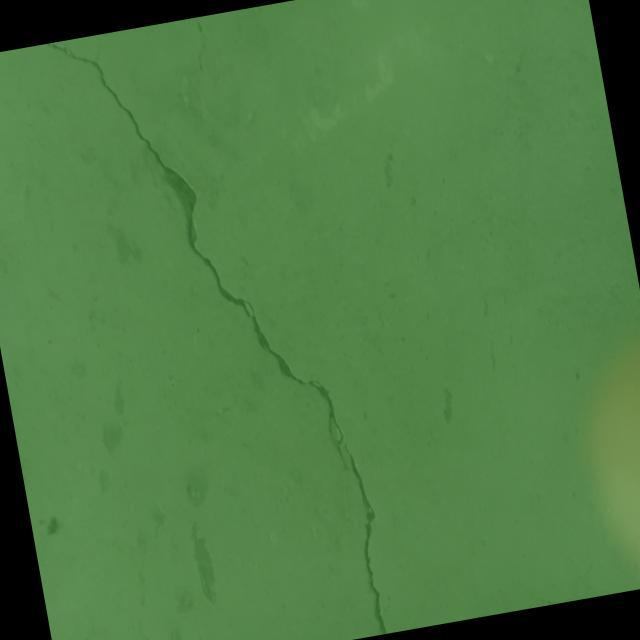crack: (44, 1, 396, 640), (182, 16, 223, 131)
